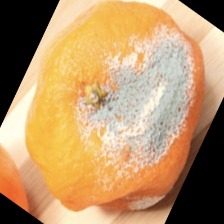orange: (36, 2, 181, 189)
